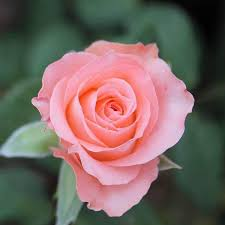rose: (28, 33, 198, 199)
